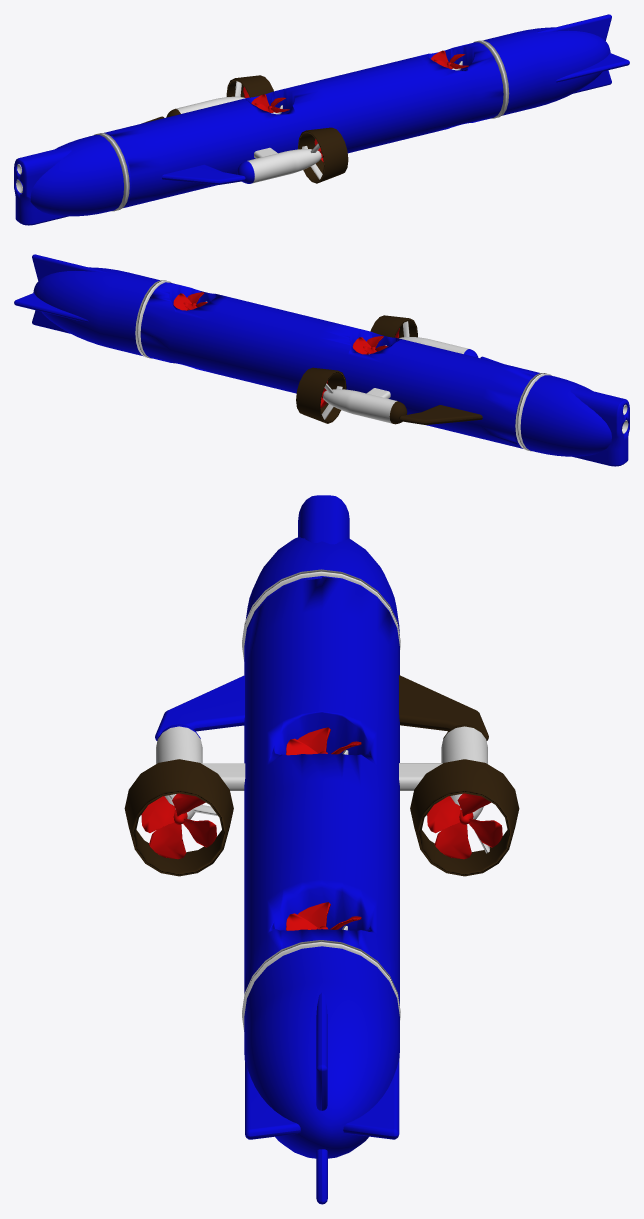
The model's file is Glider_good.obj.
3 views of the same model, one above another, from view 1: azimuth 30°, elevation 25°; view 2: azimuth 150°, elevation 25°; view 3: azimuth 270°, elevation 25° (orthographic). The views are drawn at different scales.
Visible parts, largest first — view 1: Cylinder01, Capsule04, Tube02, Object01, Tube03, Cylinder02, Cylinder03, Capsule05, Cone11, Cone13; view 2: Cylinder01, Capsule05, Tube03, Object02, Tube02, Capsule04, Cylinder03, Cylinder02, Cone11, Cone13; view 3: Cylinder01, Tube02, Tube03, Cone12, Cone09, Object02, Object01, Capsule04, Capsule05, Cylinder02, Cylinder03, Cone13 (+1 smaller).
Part boxes in pixels (x1,y1,x2,y2): Cylinder01: (14,14,629,225); Capsule04: (247,143,322,183); Tube02: (298,127,348,183); Object01: (162,161,254,184); Tube03: (226,75,273,97); Cylinder02: (94,133,129,211); Cylinder03: (473,40,509,118); Capsule05: (176,81,245,113); Cone11: (251,94,289,112); Cone13: (431,50,468,69); Cylinder01: (14,254,629,466); Capsule05: (321,383,397,423); Tube03: (296,367,346,423); Object02: (389,401,482,424); Tube02: (370,315,417,337); Capsule04: (399,321,468,353); Cylinder03: (135,280,171,358); Cylinder02: (515,373,552,451); Cone11: (352,336,387,354); Cone13: (173,292,207,310); Cylinder01: (244,495,399,1204); Tube02: (124,759,233,876); Tube03: (410,759,519,876); Cone12: (427,793,502,859); Cone09: (141,793,216,859); Object02: (399,675,488,740); Object01: (155,675,244,740); Capsule04: (156,726,245,823); Capsule05: (399,726,489,853); Cylinder02: (242,569,400,661); Cylinder03: (242,940,400,1031); Cone13: (286,902,361,930).
Size of the model in its own units: 33.81 by 3.92 by 9.74.
